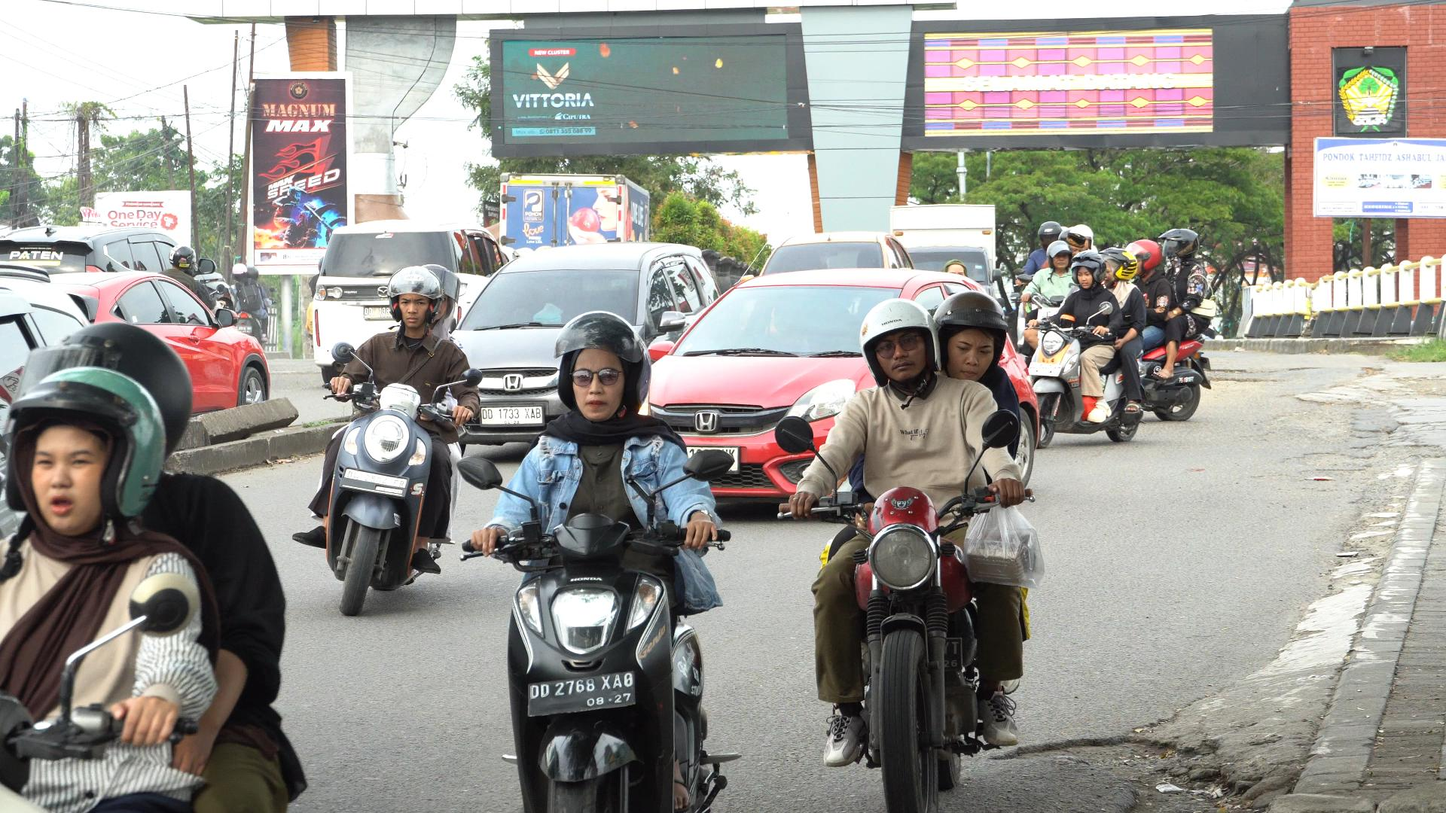number-plate: (530, 670, 638, 714)
